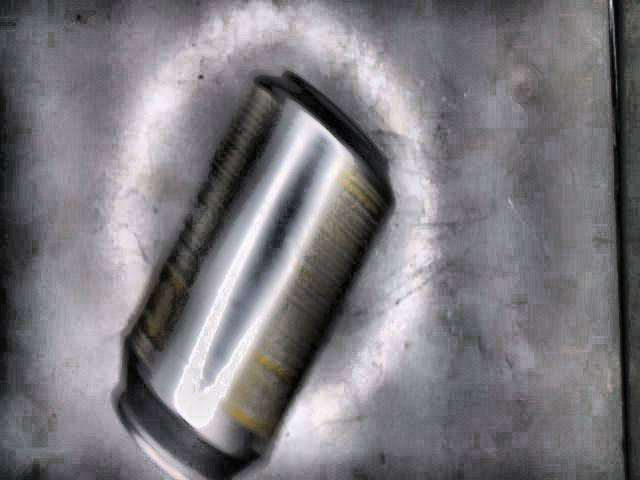Bottles: (114, 67, 393, 480)
